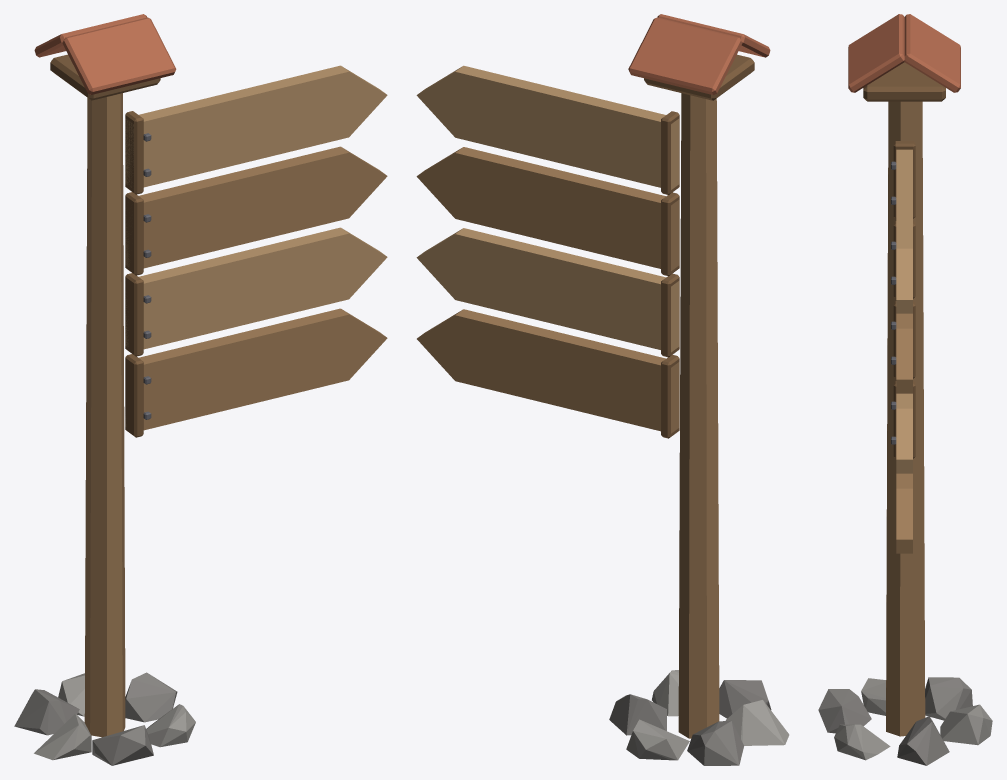
Rendered from signpost.glb.
3 views of the same model, side by side, from view 1: azimuth 30°, elevation 25°; view 2: azimuth 150°, elevation 25°; view 3: azimuth 270°, elevation 25° (orthographic).
Parts seen in each view (by area): view 1: Signpost, Arrow0, Arrow1, Arrow2, Arrow3; view 2: Signpost, Arrow0, Arrow2, Arrow3, Arrow1; view 3: Signpost, Arrow0, Arrow3, Arrow1, Arrow2.
Boxes of the visible parts, x1=… form: Signpost: x1=14, y1=14, x2=195, y2=765; Arrow0: x1=125, y1=65, x2=387, y2=194; Arrow1: x1=125, y1=146, x2=387, y2=275; Arrow2: x1=125, y1=227, x2=387, y2=356; Arrow3: x1=125, y1=308, x2=387, y2=437; Signpost: x1=609, y1=14, x2=789, y2=765; Arrow0: x1=416, y1=65, x2=679, y2=194; Arrow2: x1=416, y1=228, x2=679, y2=357; Arrow3: x1=417, y1=309, x2=679, y2=438; Arrow1: x1=416, y1=147, x2=679, y2=276; Signpost: x1=818, y1=14, x2=992, y2=765; Arrow0: x1=891, y1=141, x2=915, y2=313; Arrow3: x1=891, y1=381, x2=915, y2=553; Arrow1: x1=891, y1=221, x2=915, y2=393; Arrow2: x1=891, y1=301, x2=915, y2=473.
Size of the model in its own units: 1.48 by 2.78 by 0.6324.
